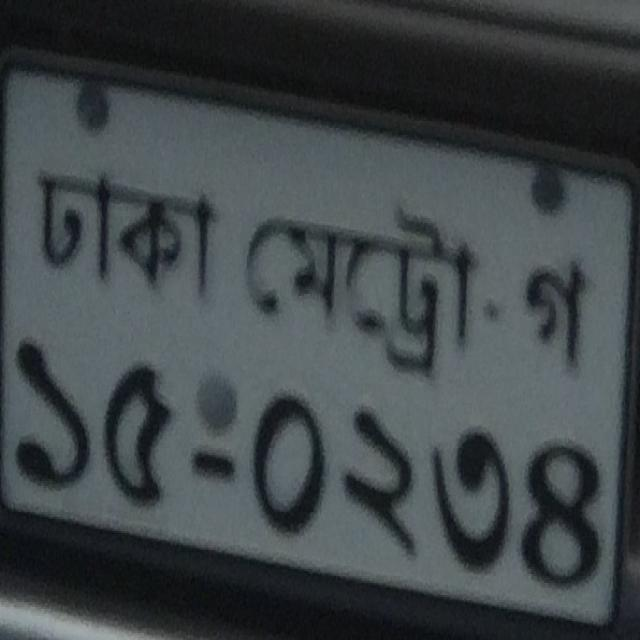numberplate: (1, 44, 637, 636)
